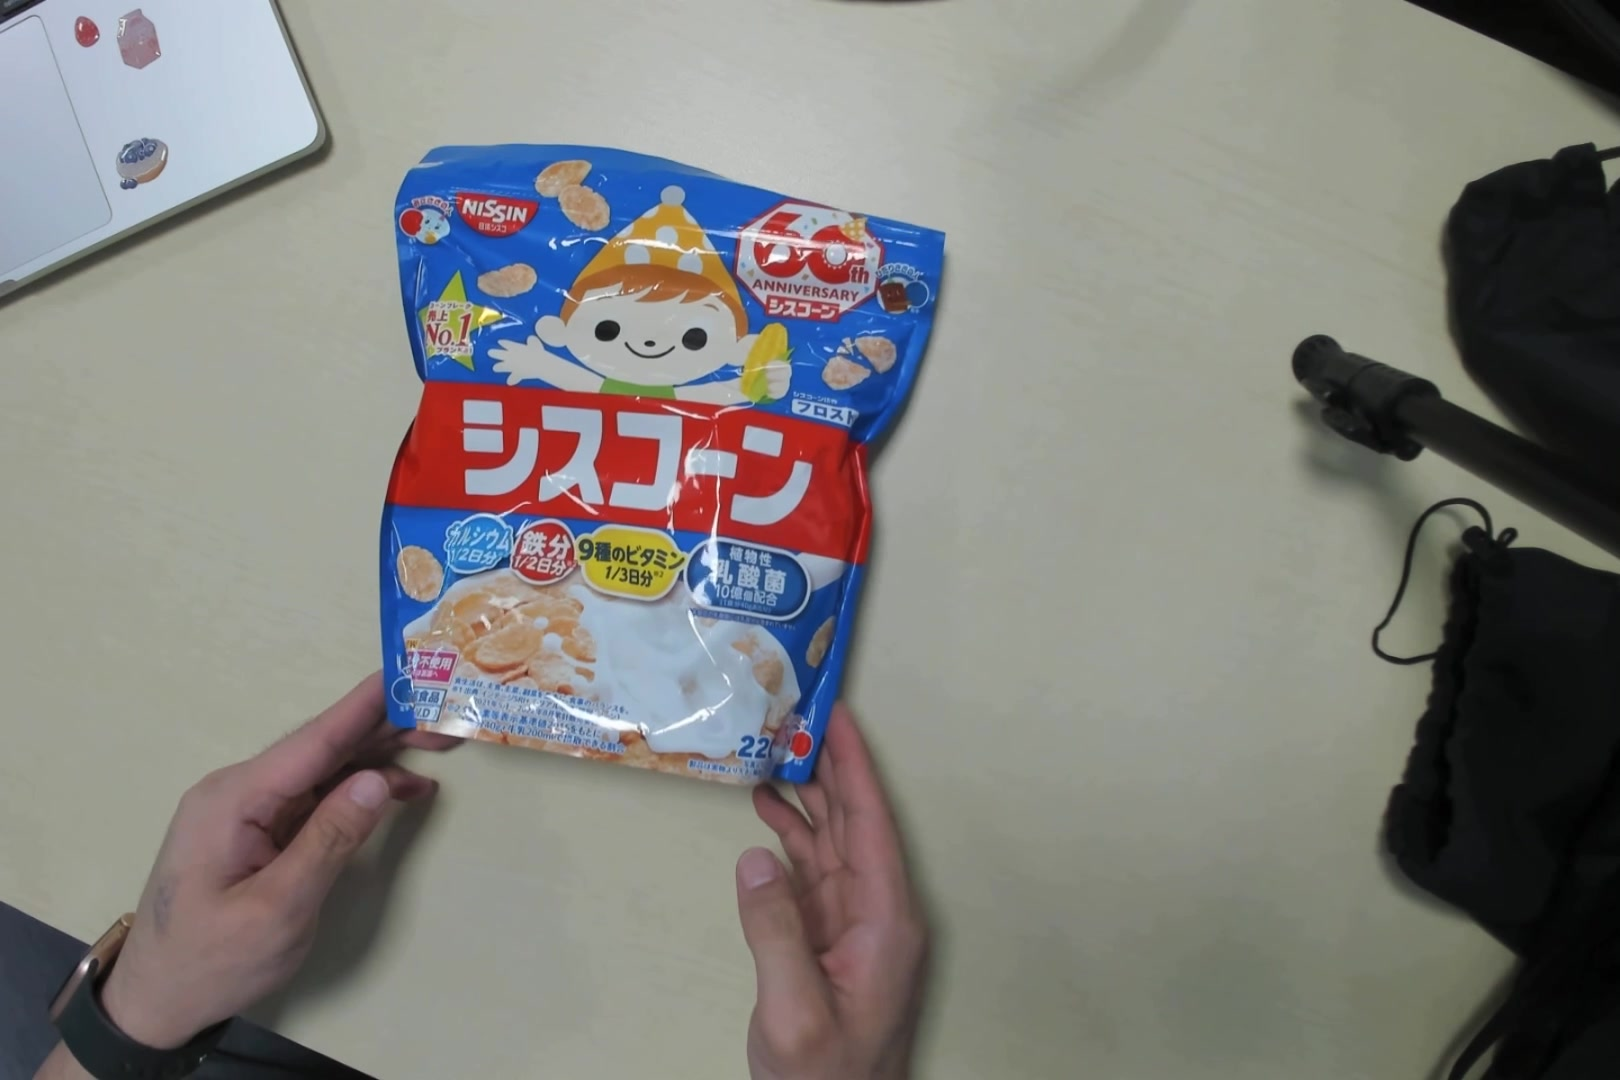BreakfastCereals_200-299g_NonHalal_NonHealthy: (369, 143, 926, 779)
